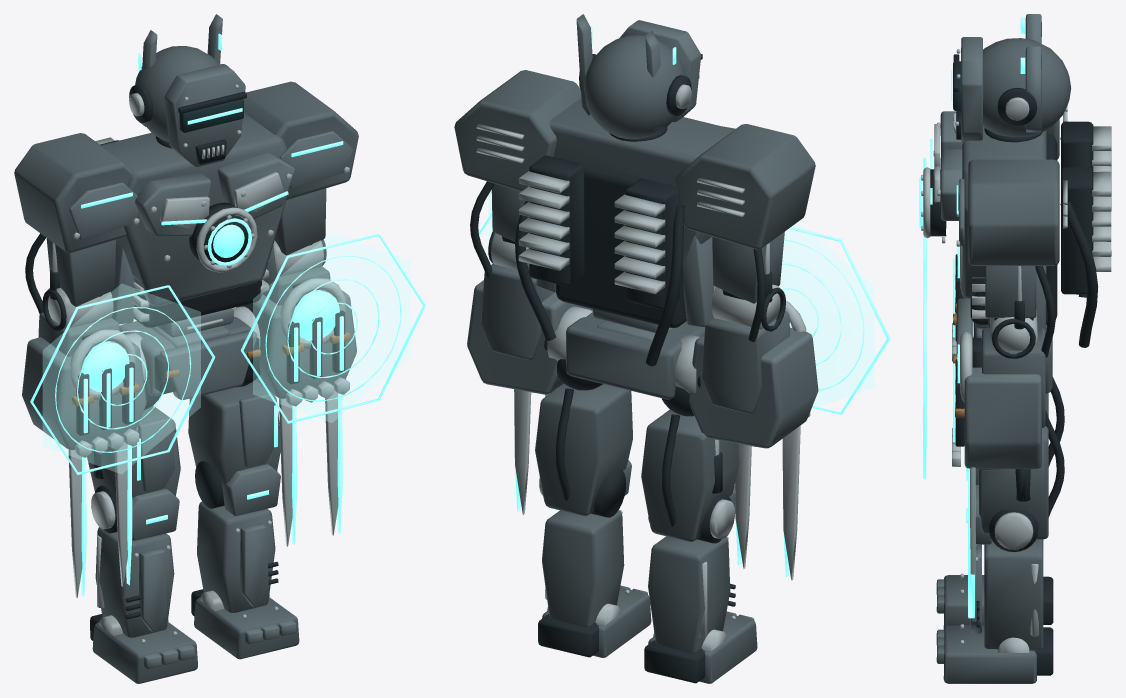
File: echo-frame-low.glb
3 views of the same model, side by side, from view 1: azimuth 30°, elevation 25°; view 2: azimuth 150°, elevation 25°; view 3: azimuth 270°, elevation 25° (orthographic). The views are drawn at different scales.
Parts seen in each view (by area): view 1: body_mesh, weapon_paper_L_mesh, weapon_paper_R_mesh, leg_R_mesh, leg_L_mesh, arm_L_mesh, arm_R_mesh, head_mesh, weapon_rock_L_mesh, weapon_rock_R_mesh, weapon_scissors_L_mesh, weapon_scissors_R_mesh; view 2: body_mesh, leg_R_mesh, arm_L_mesh, leg_L_mesh, arm_R_mesh, weapon_paper_L_mesh, head_mesh, weapon_rock_L_mesh, weapon_rock_R_mesh, weapon_scissors_L_mesh, weapon_scissors_R_mesh; view 3: body_mesh, leg_R_mesh, arm_R_mesh, head_mesh, weapon_rock_R_mesh, leg_L_mesh, weapon_paper_R_mesh, weapon_scissors_R_mesh, weapon_paper_L_mesh, weapon_rock_L_mesh.
Boxes of the visible parts, x1,y1,x2,y2 form: body_mesh: [95, 113, 295, 399]; weapon_paper_L_mesh: [30, 284, 215, 475]; weapon_paper_R_mesh: [241, 232, 425, 423]; leg_R_mesh: [188, 367, 299, 659]; leg_L_mesh: [87, 380, 197, 683]; arm_L_mesh: [14, 133, 139, 356]; arm_R_mesh: [244, 81, 358, 305]; head_mesh: [129, 14, 246, 166]; weapon_rock_L_mesh: [22, 337, 146, 457]; weapon_rock_R_mesh: [236, 290, 356, 406]; weapon_scissors_L_mesh: [68, 382, 139, 597]; weapon_scissors_R_mesh: [279, 330, 349, 546]; body_mesh: [515, 98, 735, 399]; leg_R_mesh: [535, 359, 651, 657]; arm_L_mesh: [675, 124, 815, 446]; leg_L_mesh: [641, 386, 757, 683]; arm_R_mesh: [454, 70, 581, 392]; weapon_paper_L_mesh: [779, 222, 890, 414]; head_mesh: [576, 14, 702, 141]; weapon_rock_L_mesh: [688, 327, 818, 448]; weapon_rock_R_mesh: [467, 280, 592, 394]; weapon_scissors_L_mesh: [735, 425, 800, 580]; weapon_scissors_R_mesh: [514, 389, 531, 515]; body_mesh: [919, 111, 1111, 393]; leg_R_mesh: [936, 410, 1064, 683]; arm_R_mesh: [956, 159, 1067, 470]; head_mesh: [951, 14, 1071, 144]; weapon_rock_R_mesh: [952, 359, 1041, 468]; leg_L_mesh: [936, 377, 1064, 628]; weapon_paper_R_mesh: [923, 262, 972, 479]; weapon_scissors_R_mesh: [955, 380, 975, 618]; weapon_paper_L_mesh: [923, 157, 964, 372]; weapon_rock_L_mesh: [952, 254, 966, 361].
Bounding box in the file's own units: 1.99 × 2.92 × 0.8201.
